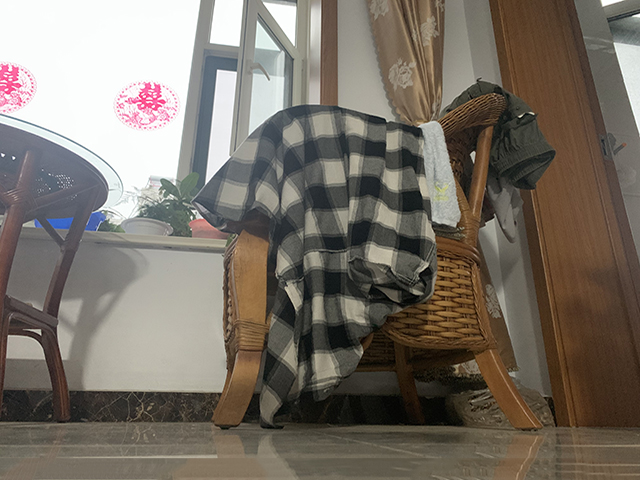stool: (188, 75, 558, 432)
table: (1, 112, 124, 424)
